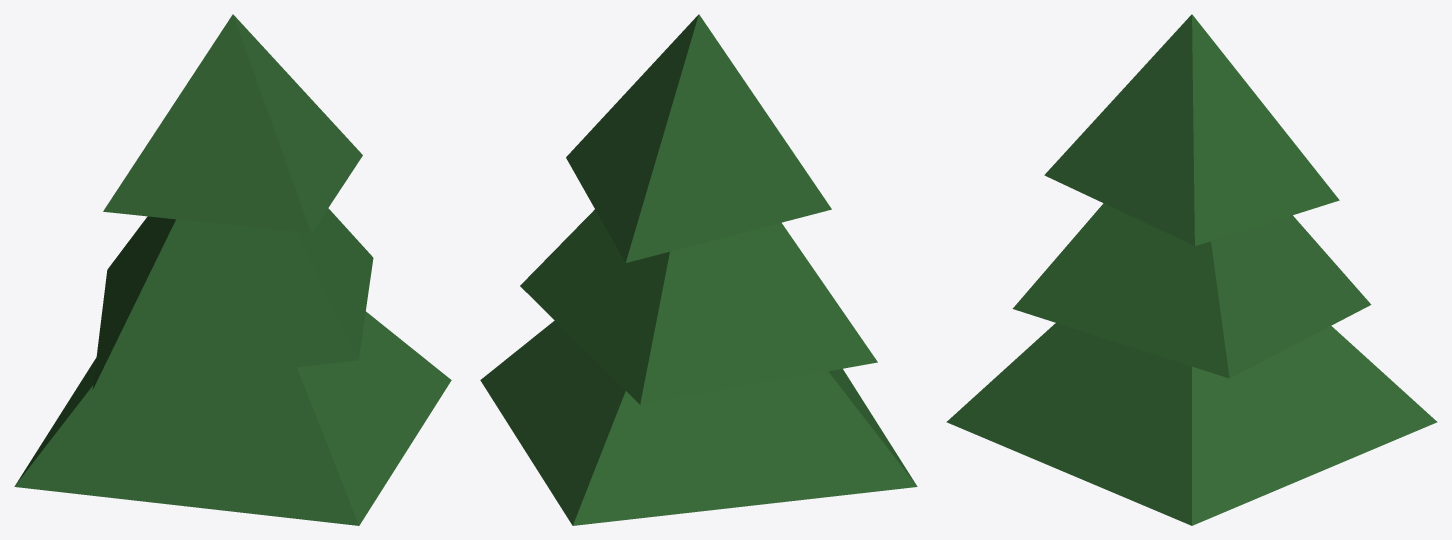
Rendered from PineTree_lowPoly.fbx.
3 views of the same model, side by side, from view 1: azimuth 30°, elevation 25°; view 2: azimuth 150°, elevation 25°; view 3: azimuth 270°, elevation 25° (orthographic). The views are drawn at different scales.
Parts seen in each view (by area): view 1: PineTree_lowPoly; view 2: PineTree_lowPoly; view 3: PineTree_lowPoly.
Part boxes in pixels (left/top/right/bottom): PineTree_lowPoly: left=14, top=14, right=451, bottom=525; PineTree_lowPoly: left=480, top=14, right=917, bottom=525; PineTree_lowPoly: left=946, top=14, right=1437, bottom=525.
Size of the model in its own units: 1.41 by 1.3 by 1.41.
